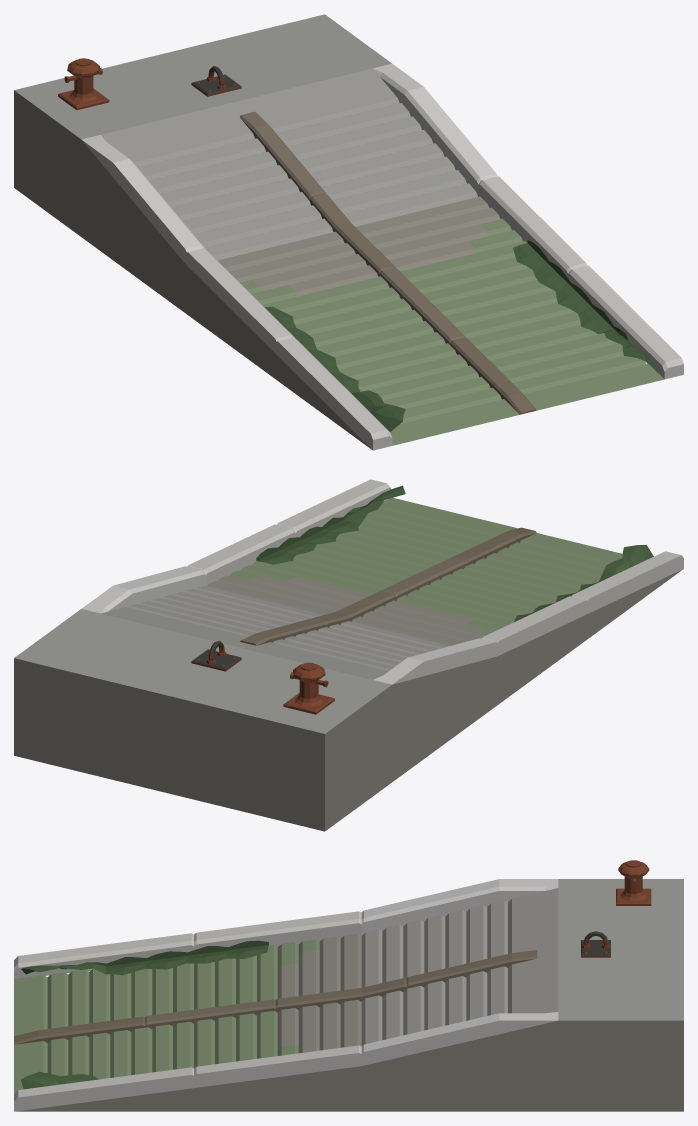
The model's file is slipway-ramp-1e595f.glb.
The picture shows the model from 3 angles, top to bottom: view 1: azimuth 30°, elevation 25°; view 2: azimuth 150°, elevation 25°; view 3: azimuth 270°, elevation 25°; orthographic projection. The views are drawn at different scales.
Parts seen in each view (by area): view 1: slipway-body, slipway-fittings; view 2: slipway-body, slipway-fittings; view 3: slipway-body, slipway-fittings.
Boxes of the visible parts, box(x1,y1,x2,y2) form: slipway-body: box(14, 14, 683, 450); slipway-fittings: box(58, 58, 241, 110); slipway-body: box(14, 479, 683, 831); slipway-fittings: box(191, 641, 334, 714); slipway-body: box(14, 879, 683, 1111); slipway-fittings: box(581, 860, 651, 957).
Bounding box in the file's own units: 4 × 1.66 × 8.
